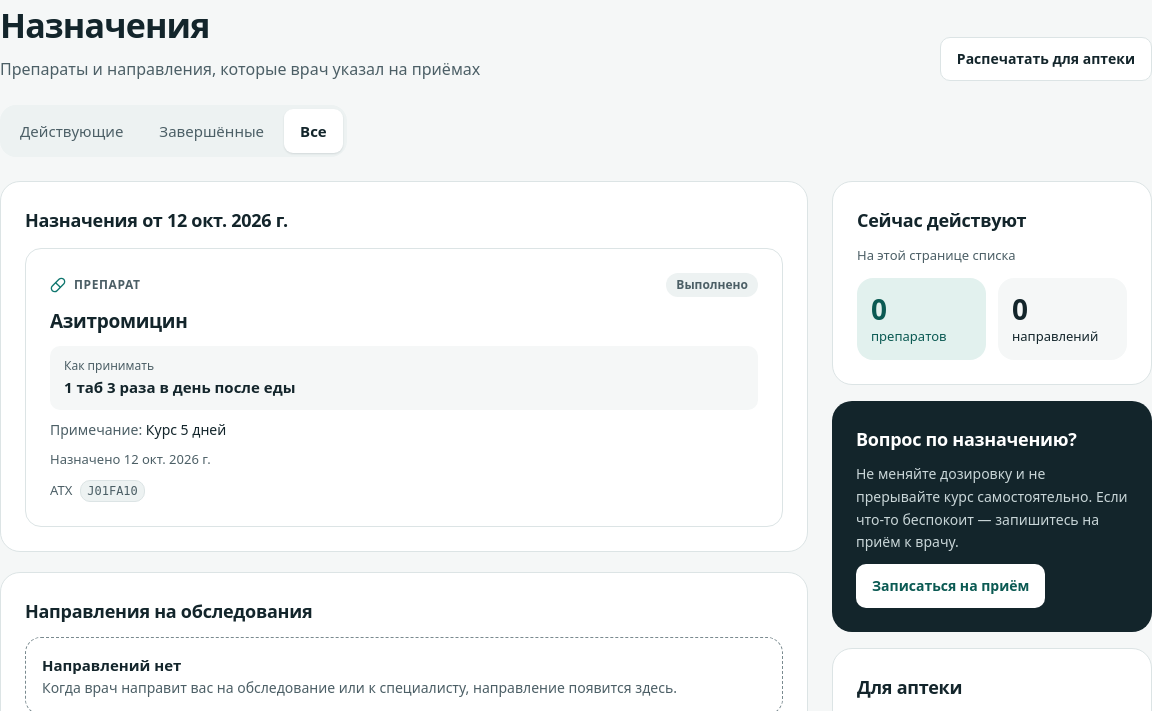
Scenario: PrescriptionList › should say the page has no active prescriptions instead of implying there are none at all
Click the tab "Действующие".
click(72, 131)  # box [4,109,139,153]
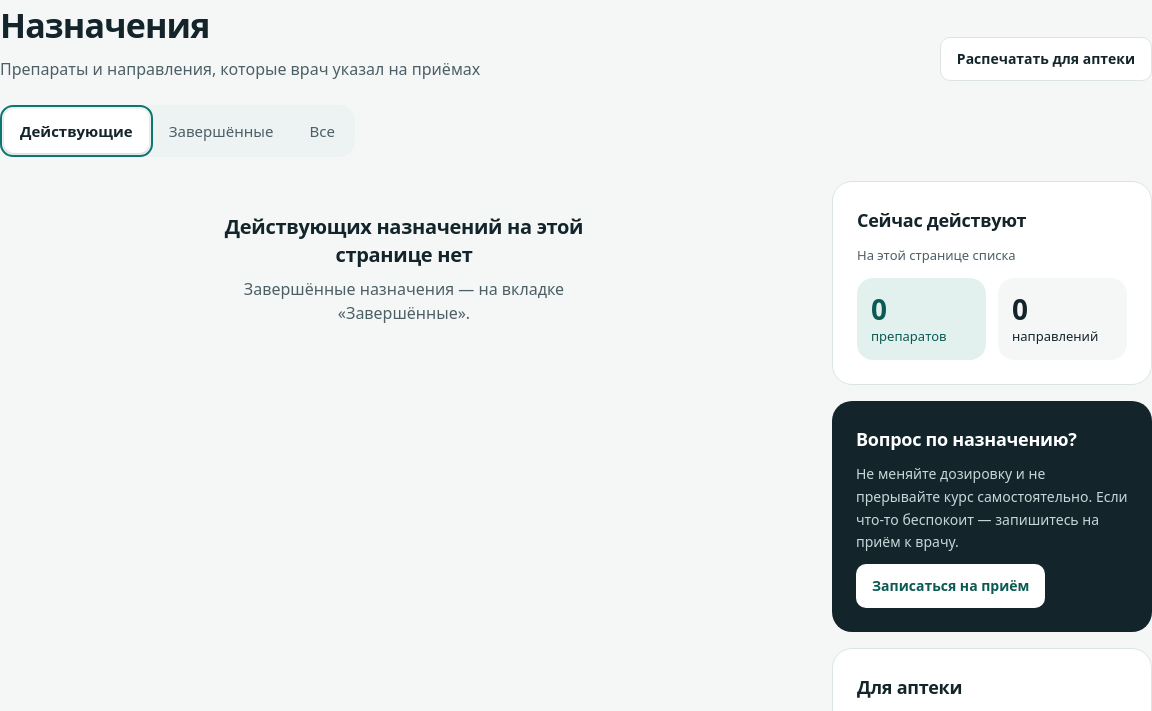
Now the heading "Действующих назначений на этой странице нет" is shown, box [212,213,596,269]
